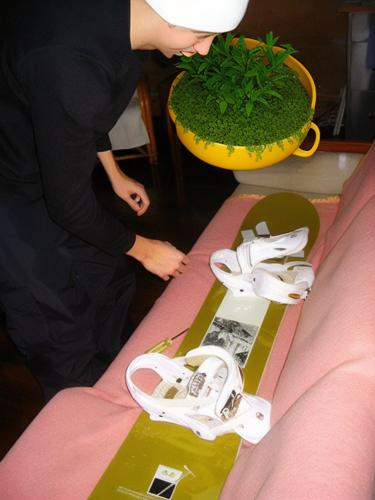chair: (89, 74, 159, 166)
person: (1, 1, 250, 406)
person/hand: (143, 240, 189, 282), (116, 179, 151, 217)
person/head: (132, 2, 249, 64)
pottedplant: (169, 31, 320, 173)
sofa: (1, 137, 375, 500)
